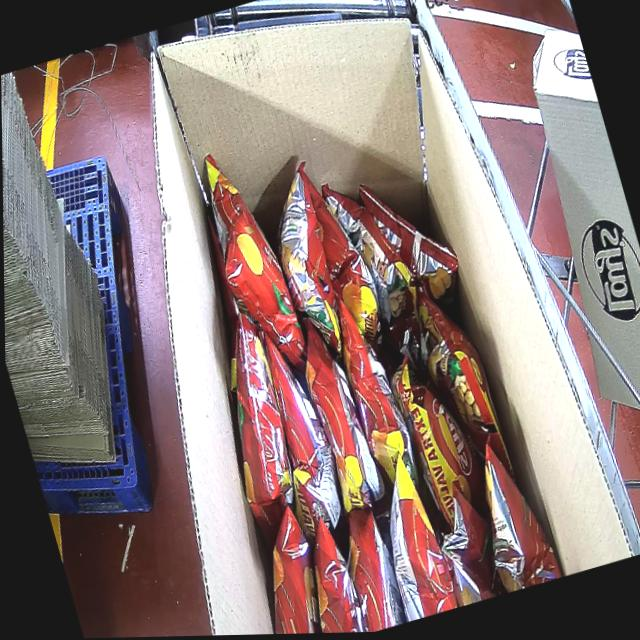MASALA: (137, 88, 564, 637)
